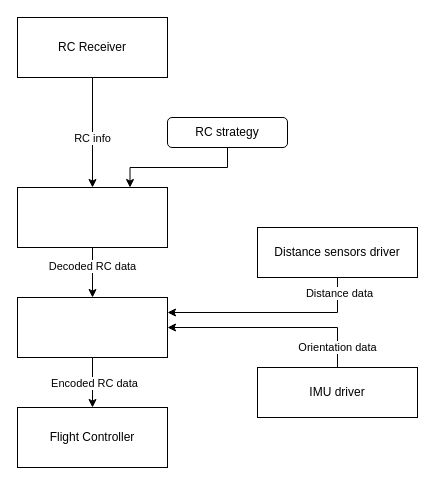
Image size: 435x485. Some labels were removed from this diagram. Here are the shapes that lost their labels. From the top down, the centre of each, then its label:
point (92, 217): RC Driver
point (92, 327): Collision Avoidance Logic
